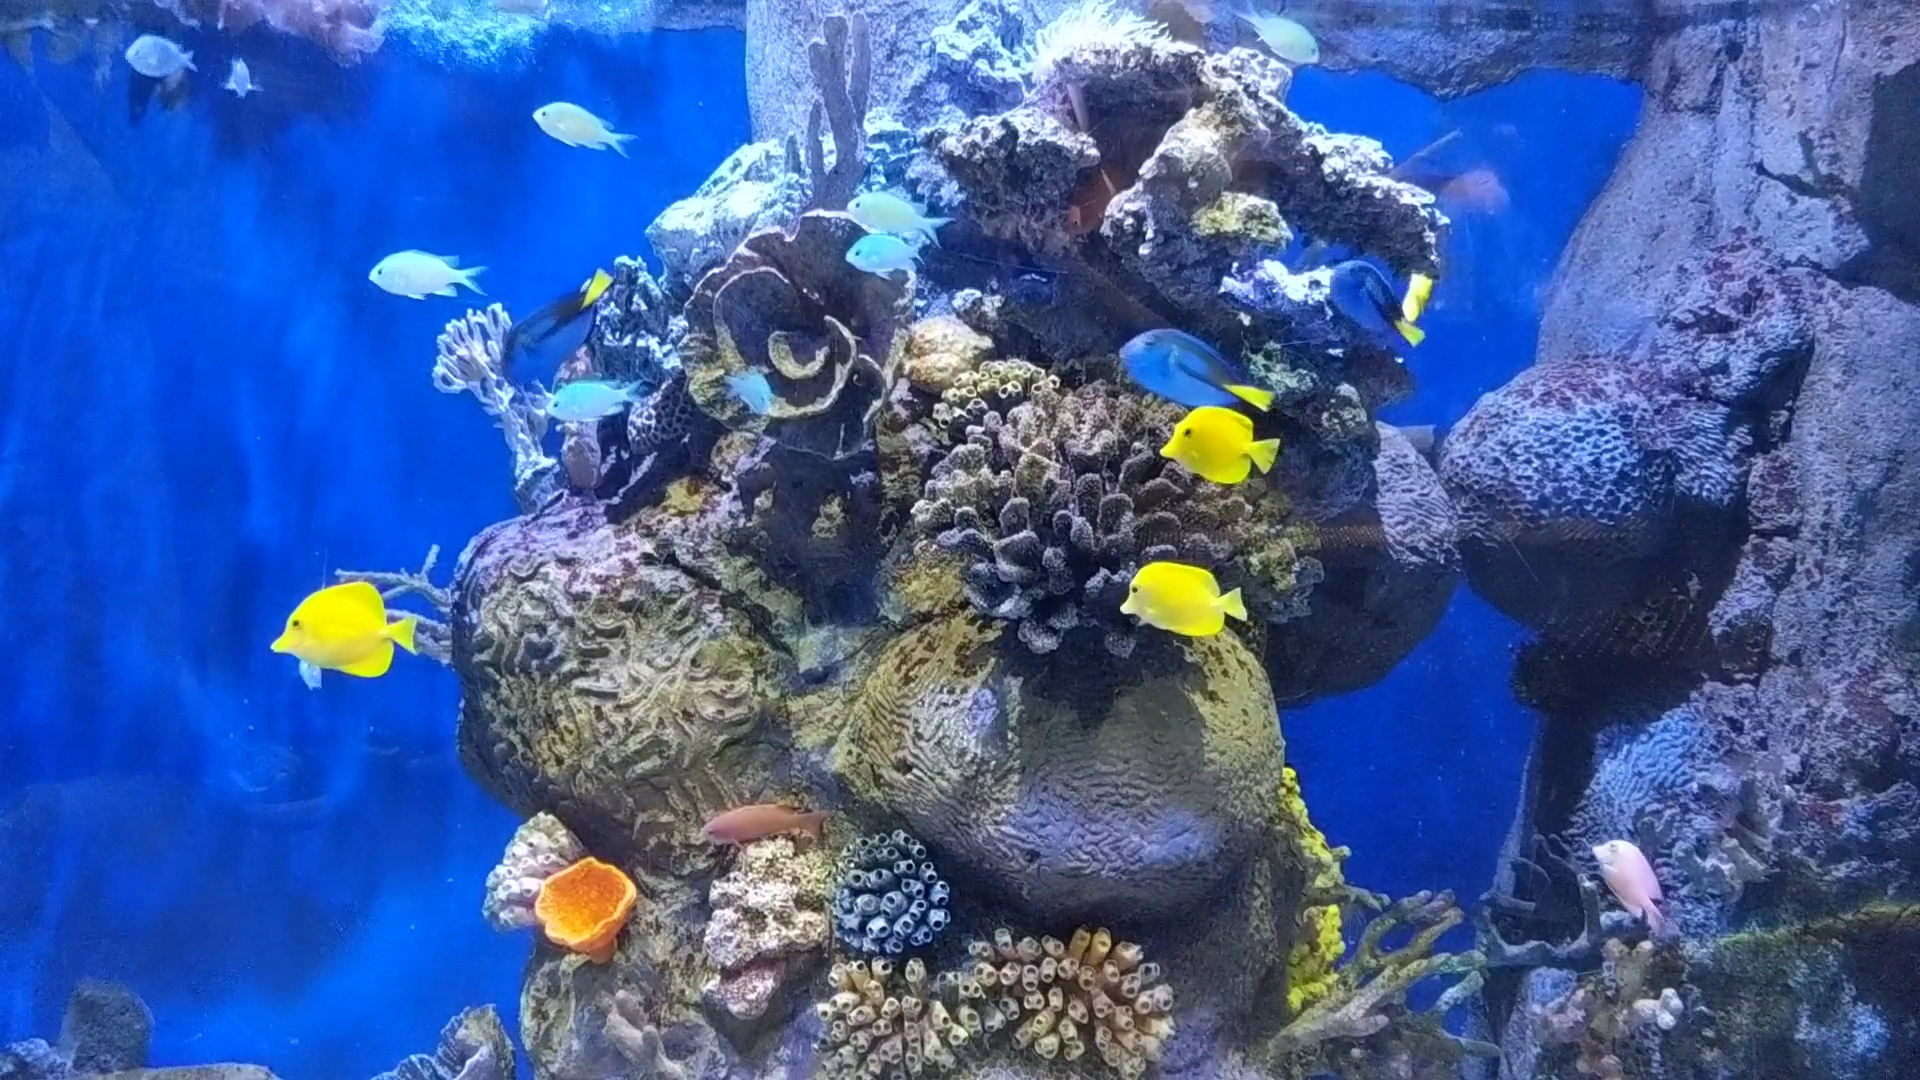blue tang surgeonfish: (1105, 309, 1276, 410), (483, 270, 618, 392), (1305, 251, 1425, 349)
damselfish: (368, 233, 498, 314), (520, 91, 644, 160), (1222, 0, 1324, 65), (527, 375, 655, 422), (845, 187, 949, 243), (833, 235, 931, 284), (109, 25, 196, 79), (717, 363, 779, 415), (214, 51, 270, 98)
pink fish: (1582, 833, 1683, 939)
saddle butterfly fish: (255, 582, 430, 680), (1143, 396, 1290, 498), (1116, 549, 1262, 646)
